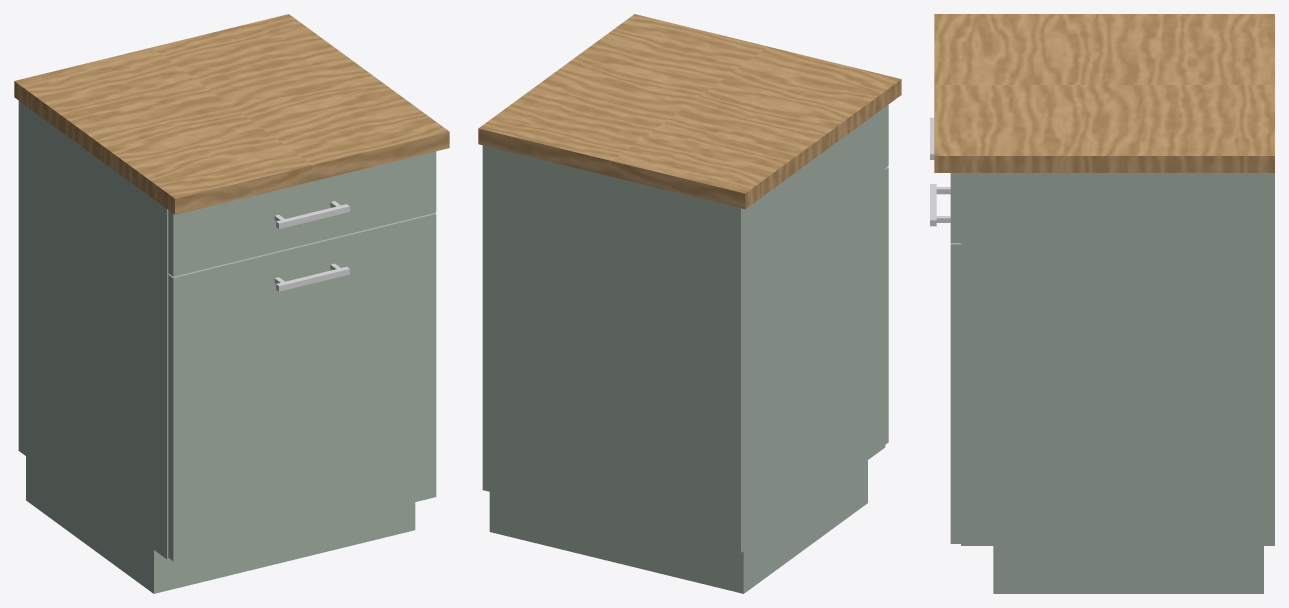
3 views of the same model, side by side, from view 1: azimuth 30°, elevation 25°; view 2: azimuth 150°, elevation 25°; view 3: azimuth 270°, elevation 25° (orthographic). The views are drawn at different scales.
Visible parts, largest first — view 1: Kitchen base cabinet with worktop; view 2: Kitchen base cabinet with worktop; view 3: Kitchen base cabinet with worktop.
Boxes of the visible parts, box(x1,y1,x2,y2) form: Kitchen base cabinet with worktop: box(14, 14, 449, 593); Kitchen base cabinet with worktop: box(478, 14, 901, 593); Kitchen base cabinet with worktop: box(930, 14, 1274, 593).
Bounding box in the file's own units: 0.62 × 0.9 × 0.637.
3 materials, 1 textured.
